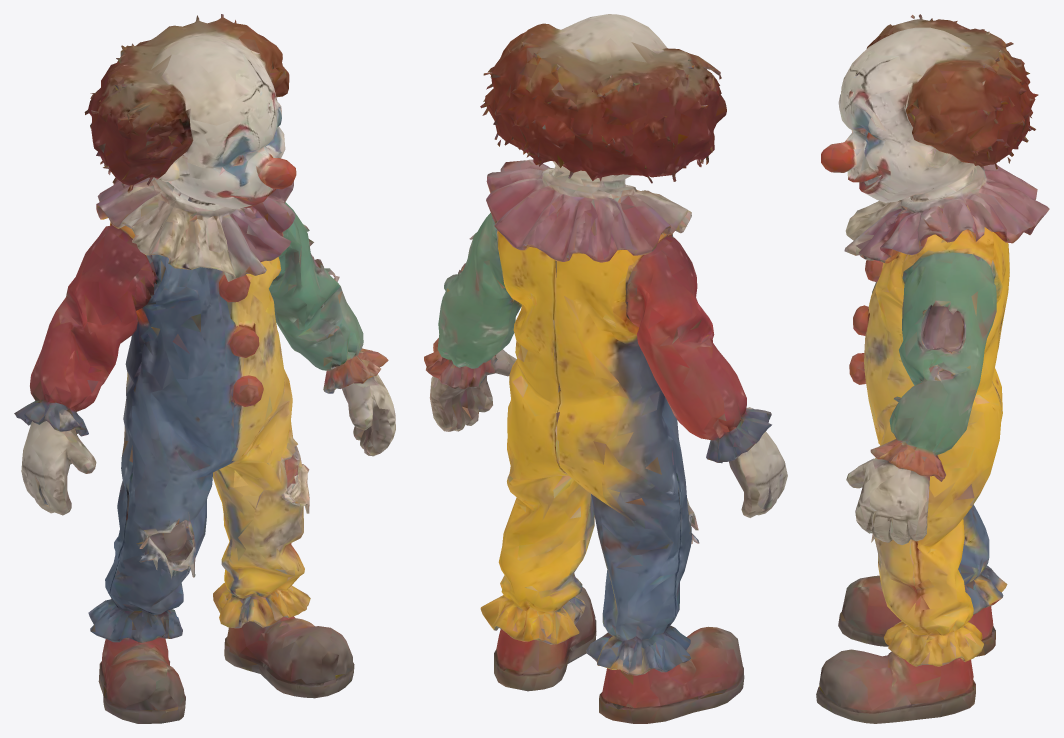
The model's file is M07_ClownPuppet.glb.
3 views of the same model, side by side, from view 1: azimuth 30°, elevation 25°; view 2: azimuth 150°, elevation 25°; view 3: azimuth 270°, elevation 25° (orthographic). The views are drawn at different scales.
Parts seen in each view (by area): view 1: geometry_0; view 2: geometry_0; view 3: geometry_0.
Boxes of the visible parts, left/top/right/bottom form: geometry_0: left=14, top=14, right=395, bottom=723; geometry_0: left=424, top=14, right=787, bottom=723; geometry_0: left=816, top=14, right=1049, bottom=723.
Size of the model in its own units: 0.5623 by 1 by 0.333.
1 material, 1 textured.
